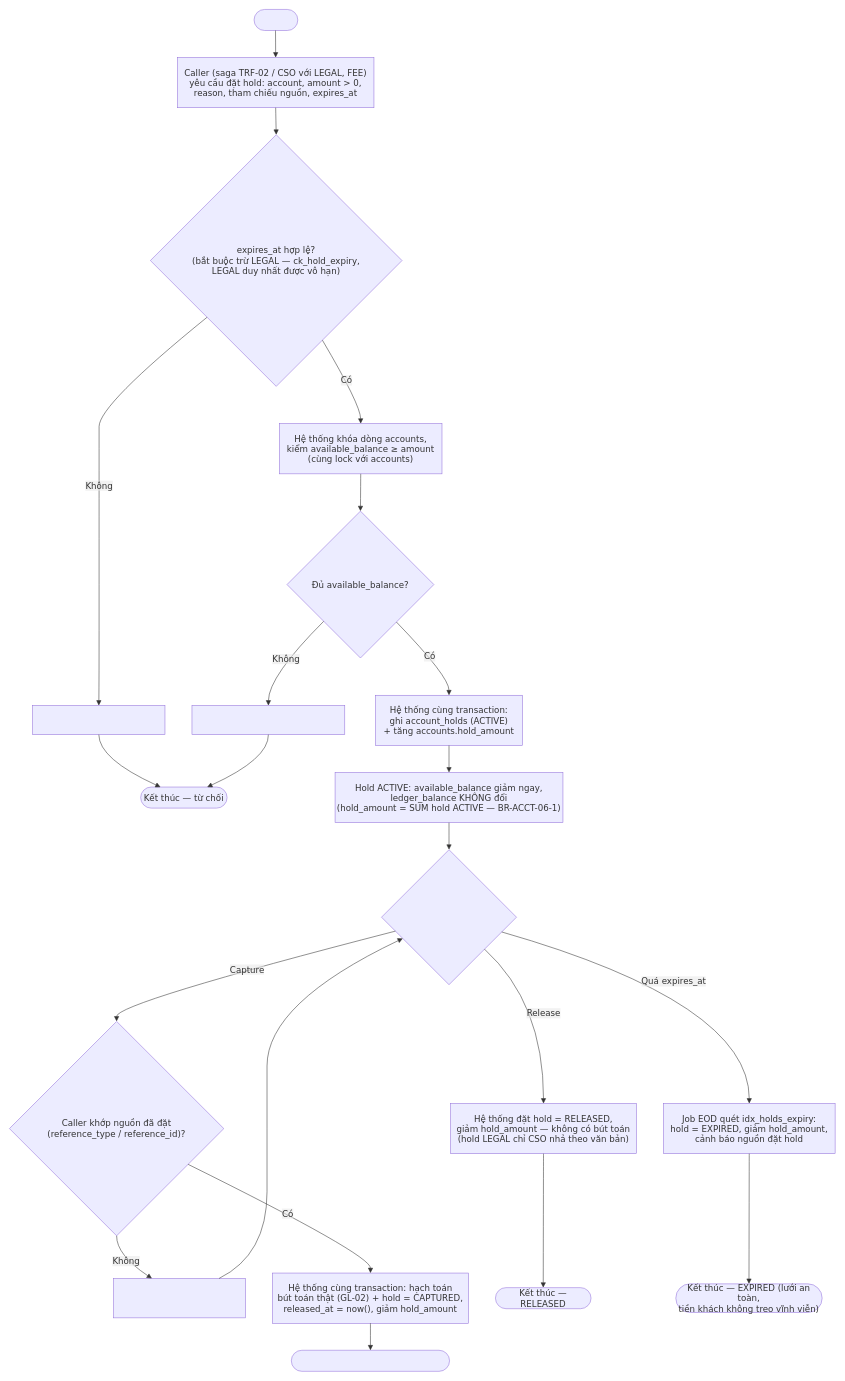
Some shapes in this 845 by 1381 pixel diagram are drawn without their labels. Here are the shapes that lost their labels. From the top down, the centre of each, then its label:
(276,20): Bắt đầu
(98,720): Hệ thống từ chối yêu cầu
(268,720): Hệ thống từ chối đặt hold (E2)
(449,917): Diễn biến tiếp theo?
(179,1298): Hệ thống từ chối capture (BR-ACCT-06-3)
(370,1360): Kết thúc — CAPTURED (đã hạch toán)
